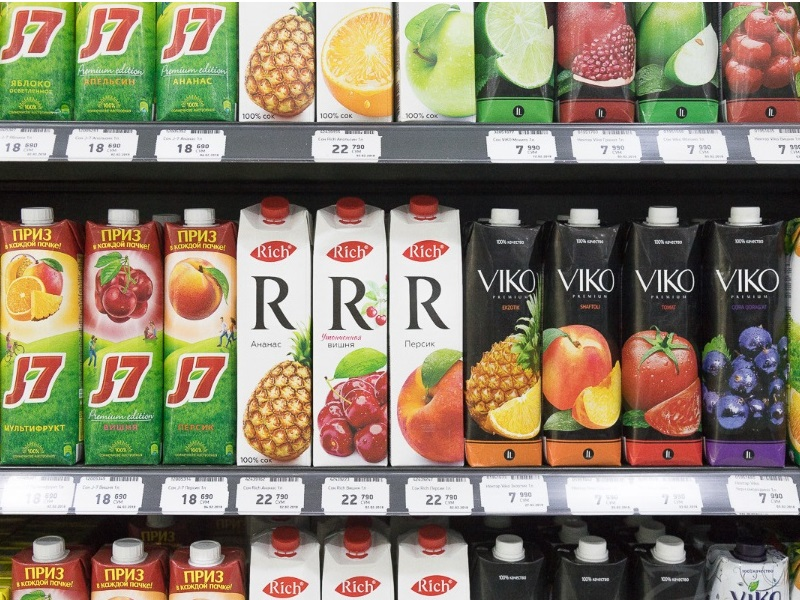juice: (230, 195, 328, 474), (379, 197, 474, 472), (1, 203, 96, 477), (305, 200, 399, 473), (79, 207, 175, 472), (157, 207, 246, 479), (703, 206, 793, 473), (543, 206, 631, 474), (624, 204, 711, 471), (464, 211, 550, 474)
